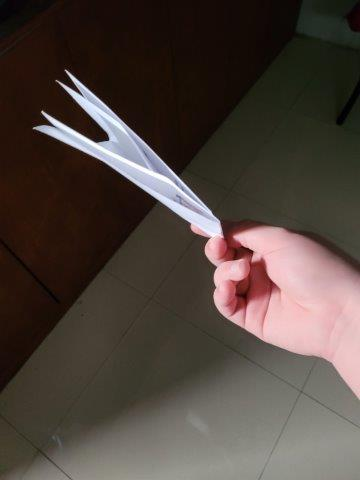kertas: (23, 70, 225, 245)
